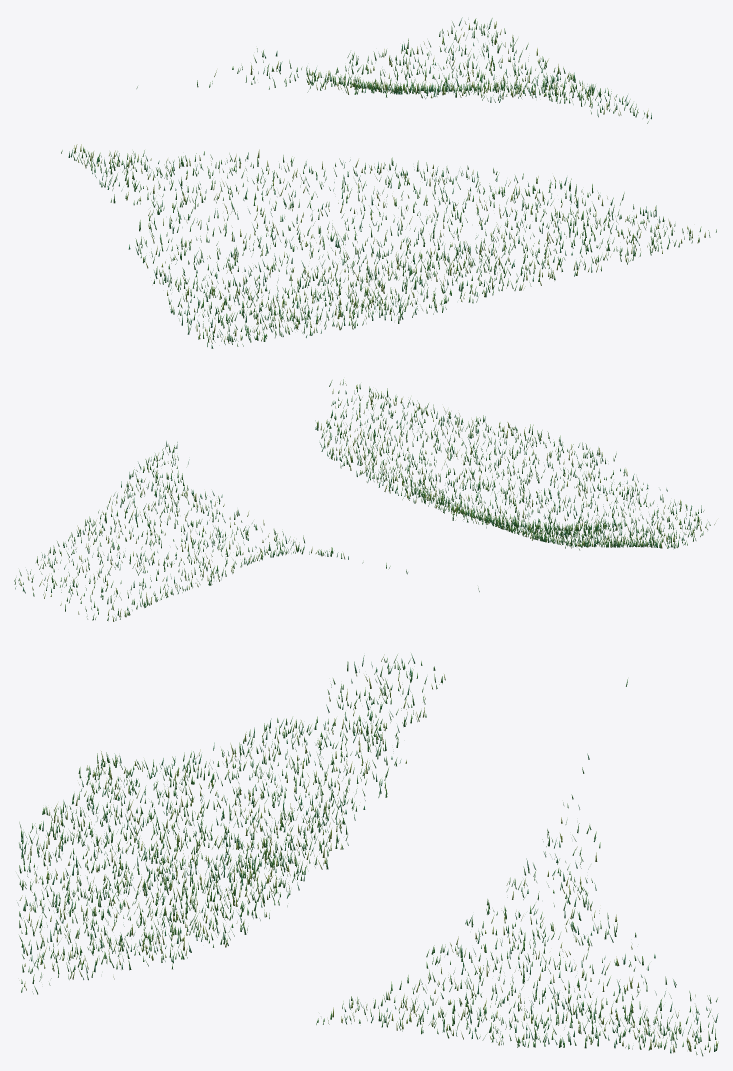
3 renders of one model, top to bottom at view 1: azimuth 30°, elevation 25°; view 2: azimuth 150°, elevation 25°; view 3: azimuth 270°, elevation 25°, orthographic. The views are drawn at different scales.
Visible parts, largest first — view 1: gc_44; view 2: gc_44; view 3: gc_44.
Part boxes in pixels (x1=…): gc_44: x1=61, y1=17, x2=716, y2=348; gc_44: x1=14, y1=379, x2=715, y2=621; gc_44: x1=17, y1=653, x2=718, y2=1056.
Bounding box in the file's own units: 18.22 × 3.7 × 18.17.
Materials: 1 (1 with a texture image).
